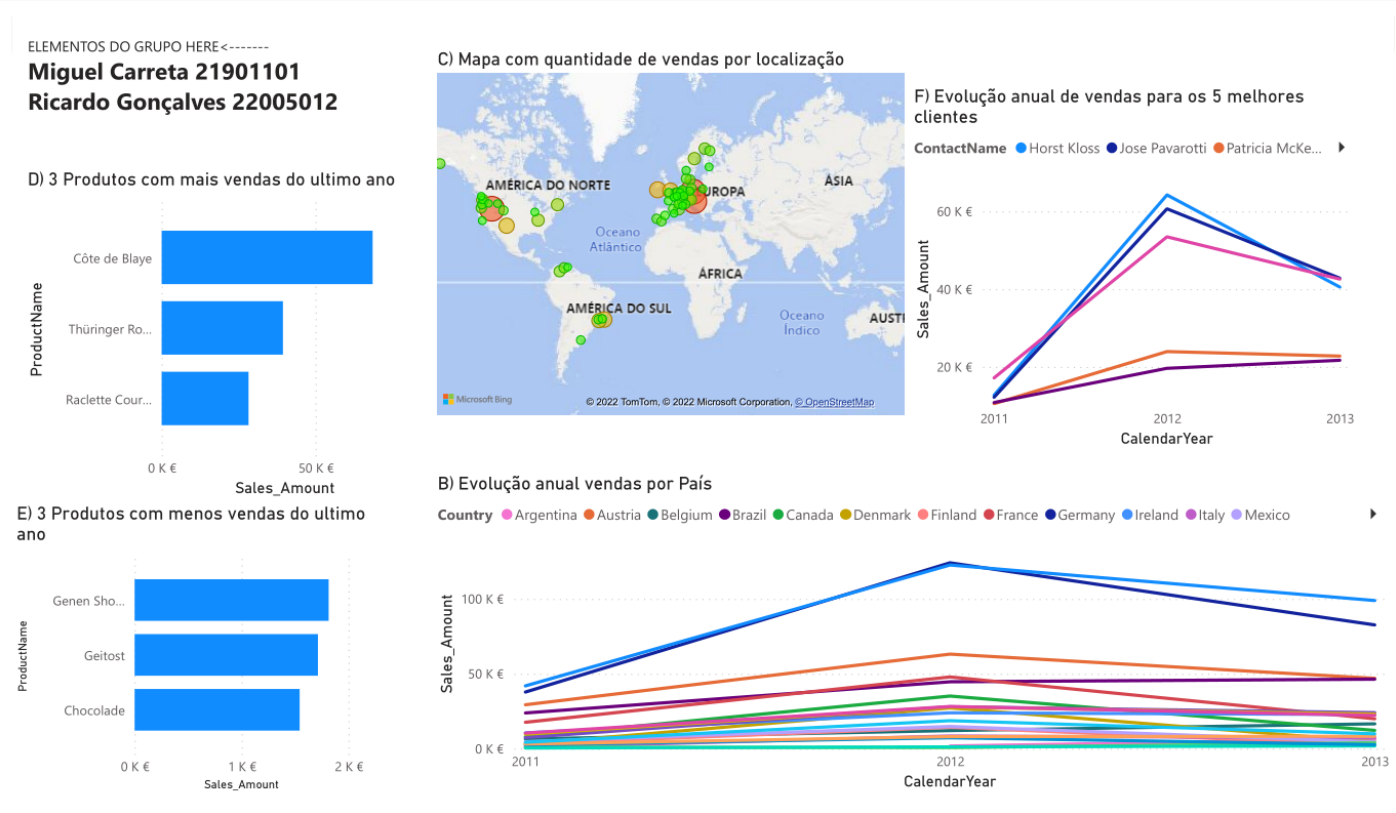

Layout of this report page (visuals, bound fields, positions):
{"tool":"powerbi","page":{"name":"MonthlySalesReport","canvas":[1280,720],"ordinal":1},"visuals":[{"type":"textbox","box":[10.5,0,354.4,127.1],"z":0},{"type":"lineChart","title":"B) Evolução anual  vendas por País","fields":{"Y":["F_Sales_Month.Sales_Amount"],"Category":["D_Time.CalendarYear"],"Series":["D_Customer.Country"]},"box":[389.5,408.4,890.3,299.4],"z":1000},{"type":"map","title":"C) Mapa com quantidade de vendas por localização","fields":{"Size":["F_Sales_Month.Sales_Amount"],"Category":["D_Customer.City"]},"box":[389.4,15.2,440.7,345.1],"z":2000},{"type":"barChart","title":"D) 3 Produtos com mais vendas do ultimo ano","fields":{"Y":["F_Sales_Month.Sales_Amount"],"Category":["D_Product.ProductName"]},"box":[10.5,127.1,378.9,308.9],"z":3000},{"type":"barChart","title":"E) 3 Produtos com menos vendas do ultimo ano","fields":{"Y":["F_Sales_Month.Sales_Amount"],"Category":["D_Product.ProductName"]},"box":[0,436,336.9,271.6],"z":4000},{"type":"lineChart","title":"F) Evolução anual de vendas para os 5 melhores clientes","fields":{"Y":["F_Sales_Month.Sales_Amount"],"Series":["D_Customer.ContactName"],"Category":["D_Time.CalendarYear"]},"box":[830,50.1,417.3,340.4],"z":5000}]}

Visuals, with their boxes on the page's 1280x720 design canvas (x1, y1, x2, y2). These are canvas units, not pixel positions in the 1396x813 screenshot, which may show the page scaled, cropped or inside an application window:
textbox: locate(10, 0, 365, 127)
"B) Evolução anual  vendas por País" lineChart: locate(390, 408, 1280, 708)
"C) Mapa com quantidade de vendas por localização" map: locate(389, 15, 830, 360)
"D) 3 Produtos com mais vendas do ultimo ano" barChart: locate(10, 127, 389, 436)
"E) 3 Produtos com menos vendas do ultimo ano" barChart: locate(0, 436, 337, 708)
"F) Evolução anual de vendas para os 5 melhores clientes" lineChart: locate(830, 50, 1247, 390)
